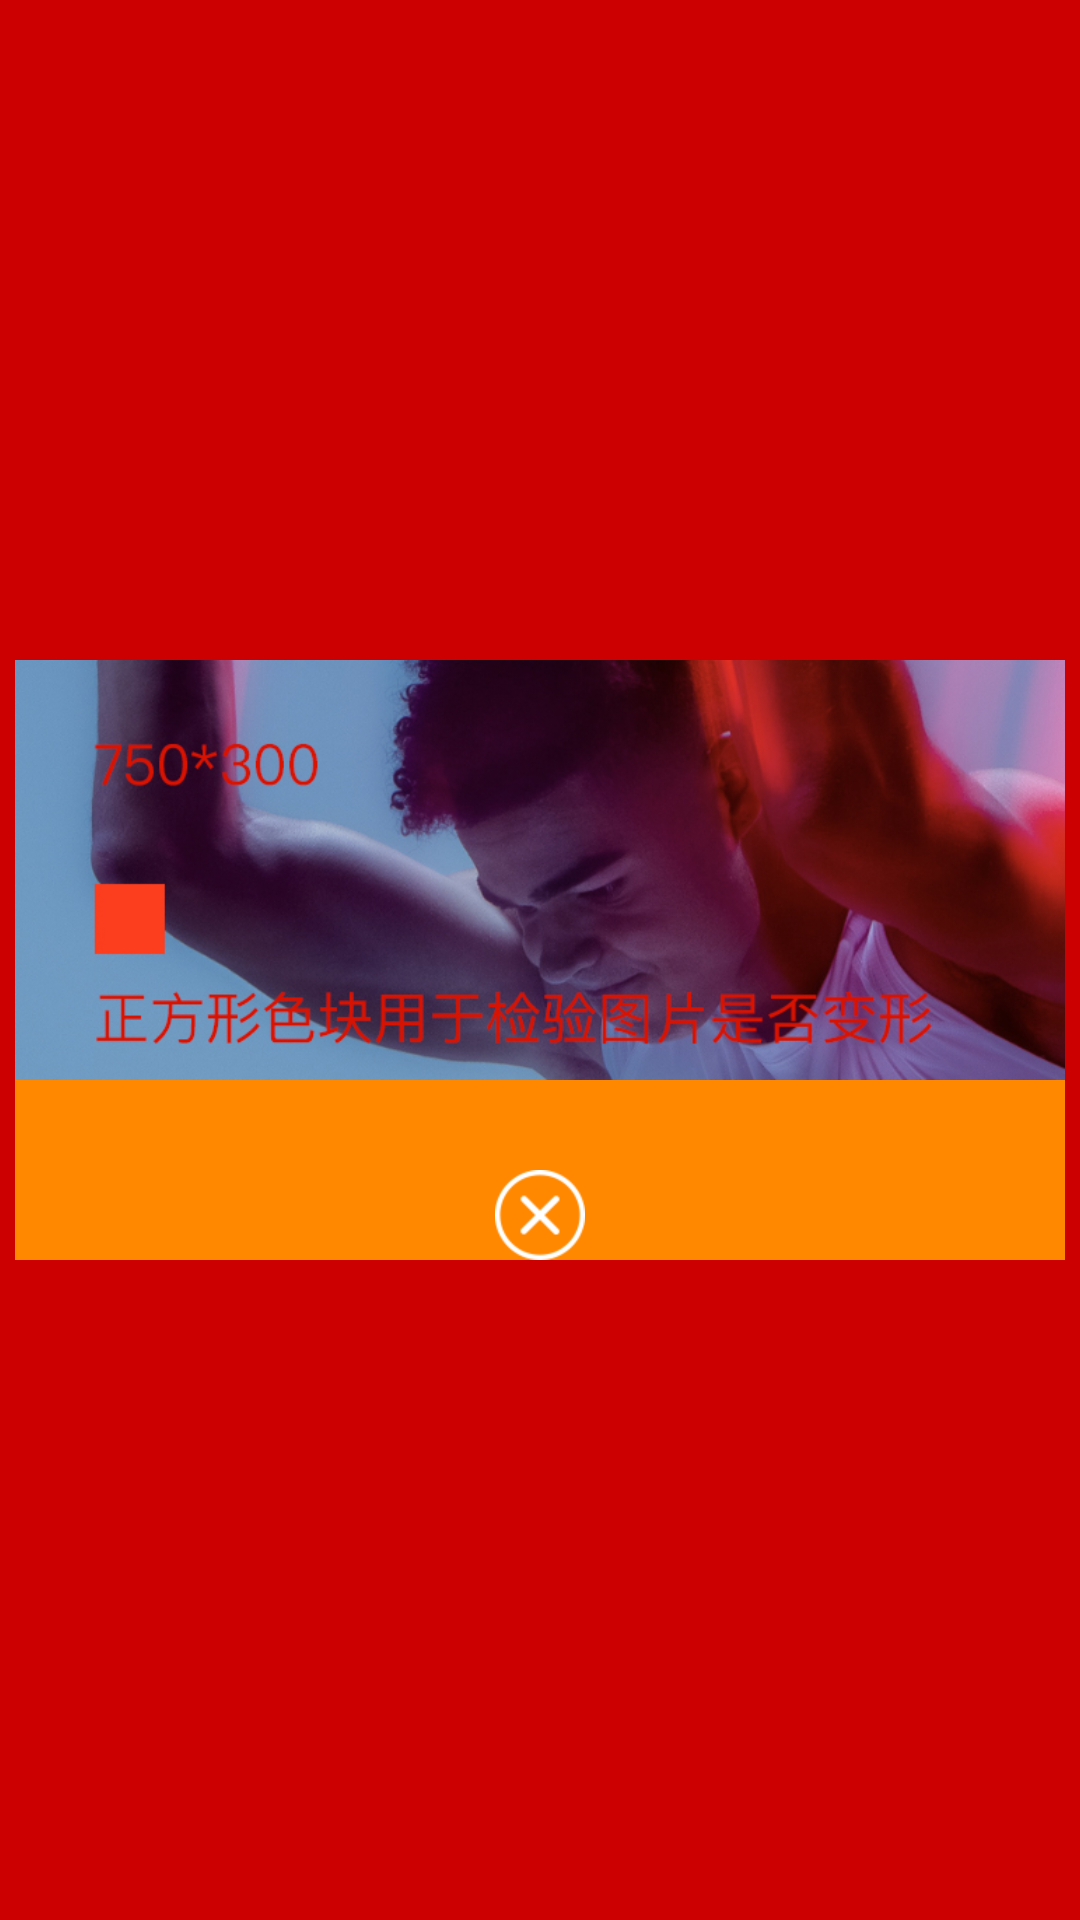

Point at icon controls on the screen. Image size 1080px×1920px, points as point (x, y).
coupon close: point (540, 1215)
